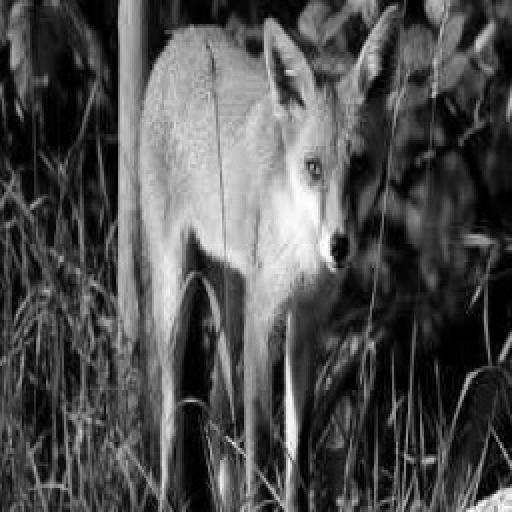zorro: (138, 4, 400, 510)
